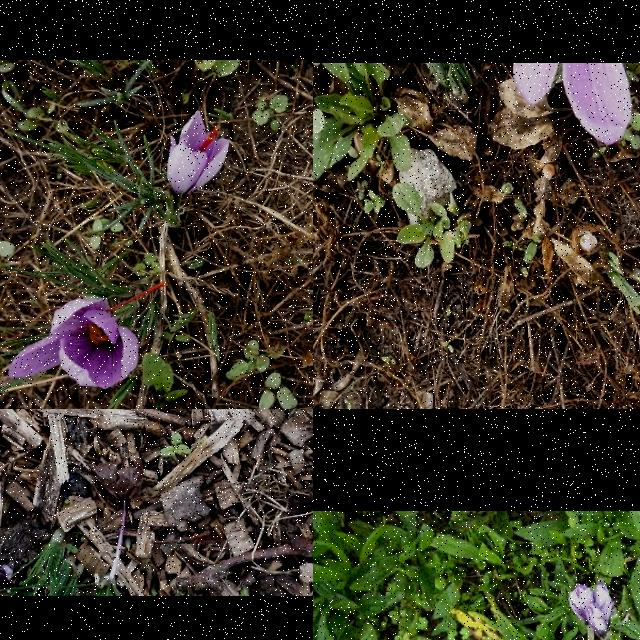flower: (10, 283, 164, 389), (168, 110, 230, 196)
overlap: (568, 582, 616, 634)
